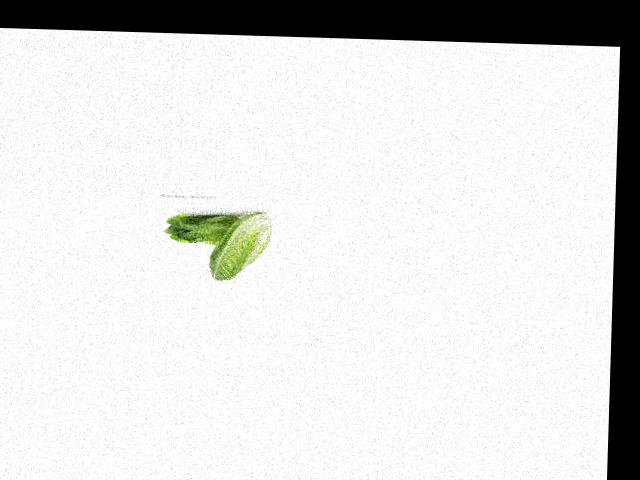lettuce: (164, 203, 239, 252)
